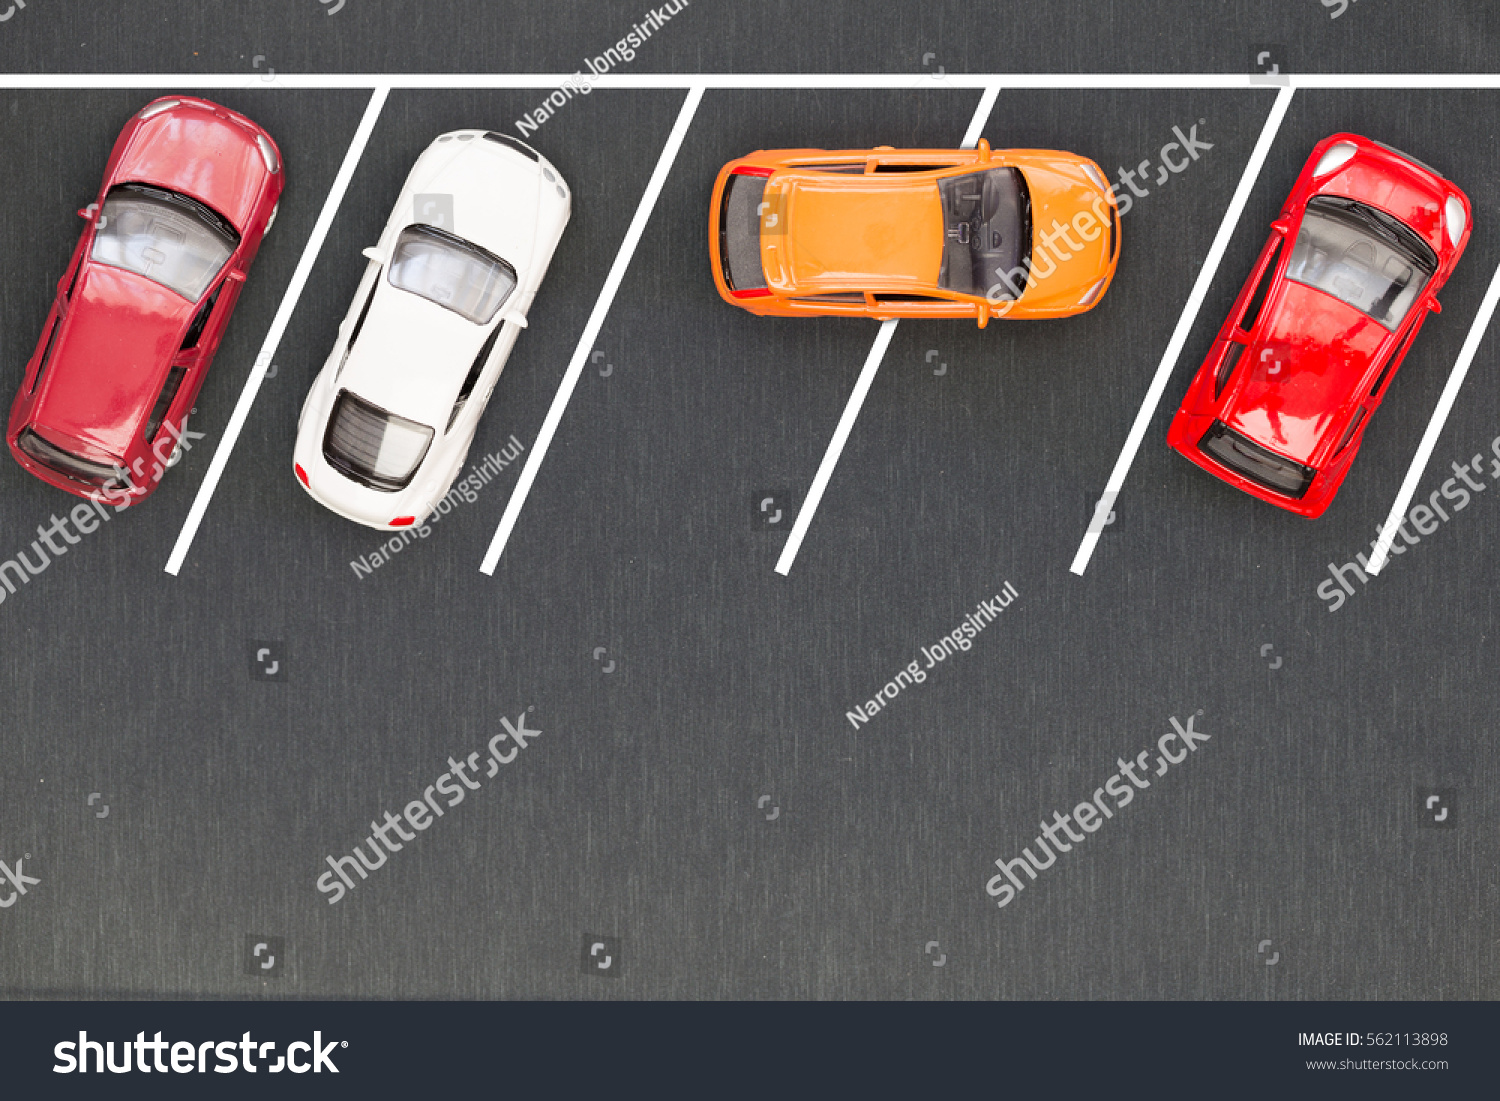Car: (1156, 128, 1479, 529), (282, 121, 580, 550), (6, 93, 288, 525), (705, 130, 1126, 334)
LaneMark: (765, 343, 898, 583), (1, 72, 1500, 90), (618, 87, 703, 267), (482, 414, 556, 569), (557, 275, 624, 408), (961, 91, 1005, 134)
